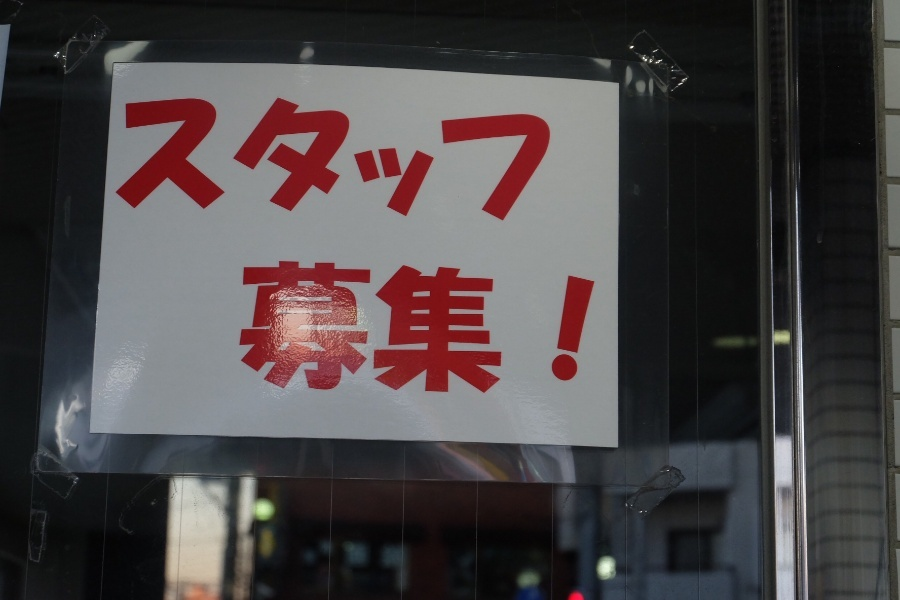text: (241, 260, 256, 403), (257, 260, 272, 403), (273, 260, 288, 403), (289, 260, 304, 403), (305, 260, 320, 403), (321, 260, 336, 403), (337, 260, 352, 403), (353, 260, 368, 403), (369, 260, 384, 403), (385, 260, 400, 403), (401, 260, 416, 403), (417, 260, 432, 403), (433, 260, 448, 403), (449, 260, 464, 403), (465, 260, 480, 403), (481, 260, 496, 403), (497, 260, 512, 403), (513, 260, 528, 403), (529, 260, 544, 403), (545, 260, 560, 403), (561, 260, 576, 403), (577, 260, 592, 403), (129, 88, 144, 222), (145, 88, 160, 222), (161, 88, 176, 222), (177, 88, 192, 222), (193, 88, 208, 222), (209, 88, 224, 222), (225, 88, 240, 222), (241, 88, 256, 222), (257, 88, 272, 222), (273, 88, 288, 222), (289, 88, 304, 222), (305, 88, 320, 222), (321, 88, 336, 222), (337, 88, 352, 222), (353, 88, 368, 222), (369, 88, 384, 222), (385, 88, 400, 222), (401, 88, 416, 222), (417, 88, 432, 222), (433, 88, 448, 222), (449, 88, 464, 222), (465, 88, 480, 222), (481, 88, 496, 222), (497, 88, 512, 222), (513, 88, 528, 222), (529, 88, 544, 222), (545, 88, 560, 222), (593, 260, 602, 403), (120, 88, 128, 222), (237, 260, 240, 403), (561, 88, 562, 222)
